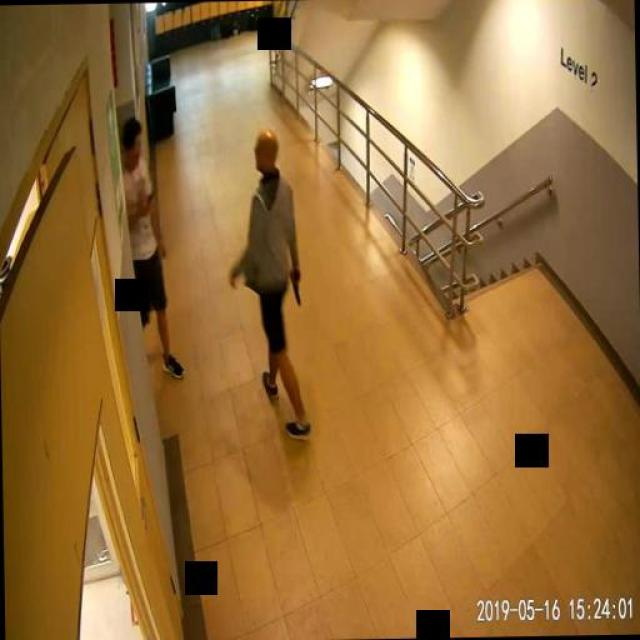gun: (290, 270, 301, 304)
